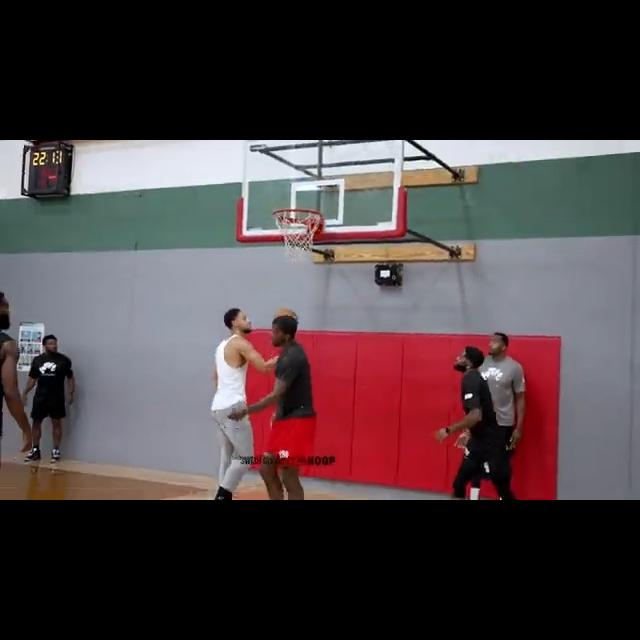hoop: (273, 207, 326, 265)
